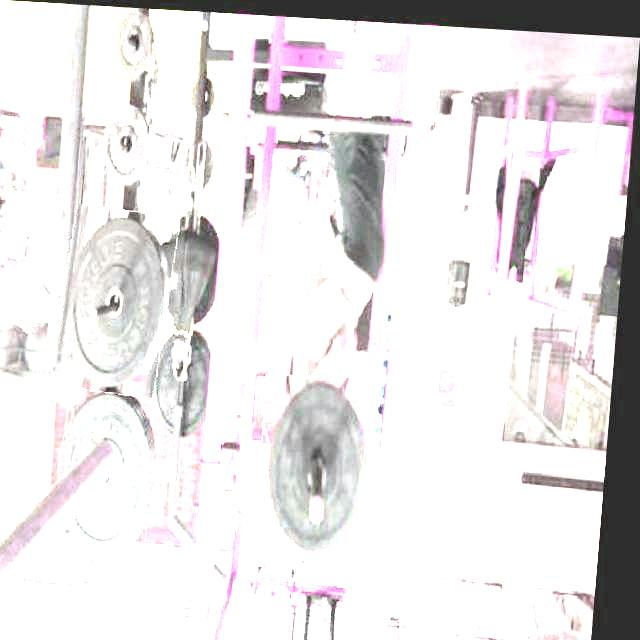barbell: (262, 369, 390, 567), (60, 205, 182, 395)
